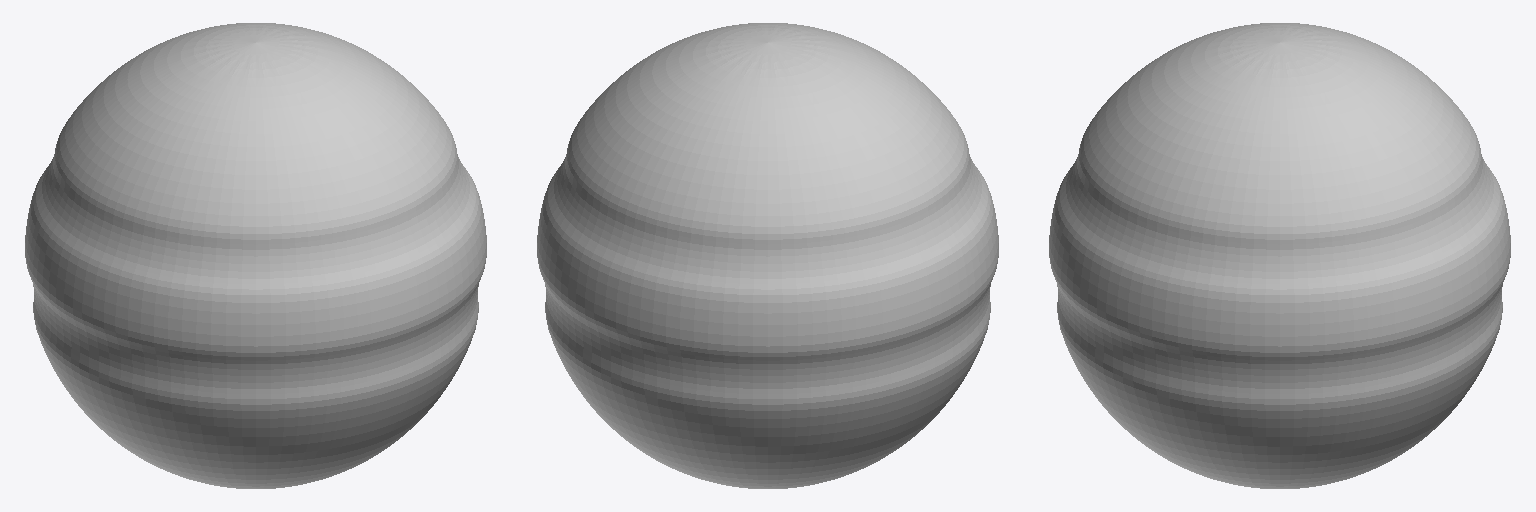
File: light-bulb.obj
3 renders of one model, left to right at view 1: azimuth 30°, elevation 25°; view 2: azimuth 150°, elevation 25°; view 3: azimuth 270°, elevation 25°, orthographic.
Parts seen in each view (by area): view 1: Kugel_6; view 2: Kugel_6; view 3: Kugel_6.
Boxes of the visible parts, box(x1,y1,x2,y2) form: Kugel_6: box(25, 23, 486, 488); Kugel_6: box(537, 23, 998, 488); Kugel_6: box(1049, 23, 1510, 488).
Size of the model in its own units: 39.13 by 39.85 by 39.13.